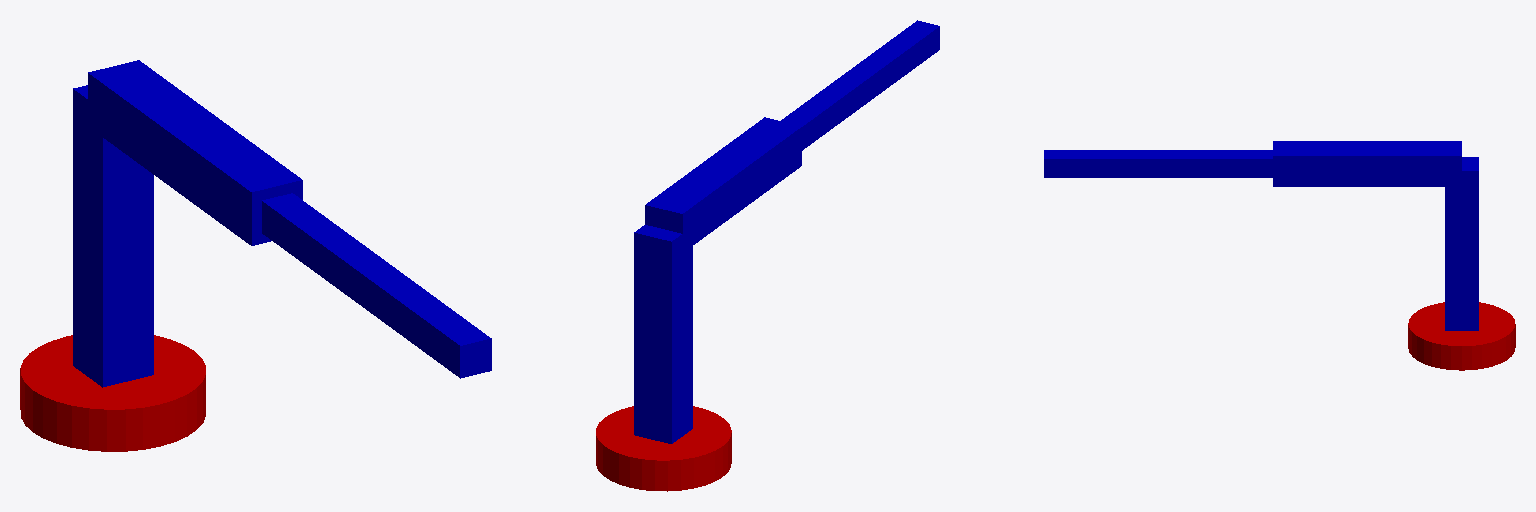
URDF robot description (divar3v30069):
<?xml version="1.0"?>
<robot  name="divar3v30069" >
 <material  name="blue" >
  <color  rgba="0 0 0.8 1.0" />
 </material>
 <material  name="red" >
  <color  rgba="0.8 0 0 1.0" />
 </material>
 <link  name="base_link" >
  <visual >
   <origin  rpy="0 0 0"  xyz="0 0 0" />
   <material  name="red" />
   <geometry >
    <cylinder  radius="0.1"  length="0.05" />
   </geometry>
  </visual>
 </link>
 <joint  name="joint1"  type="revolute" >
  <parent  link="base_link" />
  <child  link="link1" />
  <origin  rpy="0 0 0"  xyz="0 0 0" />
  <axis  xyz="0 0 1" />
 </joint>
 <link  name="link1" >
  <inertial >
   <origin  rpy="0 0 0"  xyz="0 0 0.17671274134805157" />
   <mass  value="2.0370864505776547" />
   <inertia  ixx="0.02189325472744721"  iyz="0.0"  iyy="0.0013779100715798562"  ixz="0.0"  izz="0.02189325472744721"  ixy="0.0" />
  </inertial>
  <visual >
   <origin  rpy="0 0 0"  xyz="0 0 0.17671274134805157" />
   <material  name="blue" />
   <geometry >
    <box  size="0.06370614597450026 0.06370614597450026 0.35342548269610313" />
   </geometry>
  </visual>
  <collision >
   <origin  rpy="0 0 0"  xyz="0 0 0.17671274134805157" />
   <geometry >
    <box  size="0.06370614597450026 0.06370614597450026 0.35342548269610313" />
   </geometry>
  </collision>
 </link>
 <joint  name="joint2"  type="revolute" >
  <parent  link="link1" />
  <child  link="link2" />
  <origin  rpy="1.5707 0 0"  xyz="0 0 0.35342548269610313" />
  <axis  xyz="1 0 0" />
 </joint>
 <link  name="link2" >
  <inertial >
   <origin  rpy="0 0 0"  xyz="0 0 0.06787938097134562" />
   <mass  value="0.7824912125491821" />
   <inertia  ixx="0.0014664481633078744"  iyz="0.0"  iyy="0.0005292865810326838"  ixz="0.0"  izz="0.0014664481633078744"  ixy="0.0" />
  </inertial>
  <visual >
   <origin  rpy="0 0 0"  xyz="0 0 0.06787938097134562" />
   <material  name="blue" />
   <geometry >
    <box  size="0.06370614597450026 0.06370614597450026 0.13575876194269124" />
   </geometry>
  </visual>
  <collision >
   <origin  rpy="0 0 0"  xyz="0 0 0.06787938097134562" />
   <geometry >
    <box  size="0.06370614597450026 0.06370614597450026 0.13575876194269124" />
   </geometry>
  </collision>
 </link>
 <joint  name="joint3"  type="revolute" >
  <parent  link="link2" />
  <child  link="link3" />
  <origin  rpy="0 0 0"  xyz="0 0 0.13575876194269124" />
  <axis  xyz="0 0 1" />
 </joint>
 <link  name="link3" >
  <inertial >
   <origin  rpy="0 0 0"  xyz="0 0 0.10797393760726996" />
   <mass  value="1.2446880945730512" />
   <inertia  ixx="0.0052579730349809305"  iyz="0.0"  iyy="0.0008419221781193467"  ixz="0.0"  izz="0.0052579730349809305"  ixy="0.0" />
  </inertial>
  <visual >
   <origin  rpy="0 0 0"  xyz="0 0 0.10797393760726996" />
   <material  name="blue" />
   <geometry >
    <box  size="0.06370614597450026 0.06370614597450026 0.21594787521453992" />
   </geometry>
  </visual>
  <collision >
   <origin  rpy="0 0 0"  xyz="0 0 0.10797393760726996" />
   <geometry >
    <box  size="0.06370614597450026 0.06370614597450026 0.21594787521453992" />
   </geometry>
  </collision>
 </link>
 <joint  name="joint4"  type="revolute" >
  <parent  link="link3" />
  <child  link="link4" />
  <origin  rpy="0 0 0"  xyz="0 0 0.21594787521453992" />
  <axis  xyz="0 1 0" />
 </joint>
 <link  name="link4" >
  <inertial >
   <origin  rpy="0 0 0"  xyz="0 0 0.12670001406152667" />
   <mass  value="0.5353271603084286" />
   <inertia  ixx="0.002930875929757283"  iyz="0.0"  iyy="0.00013271857557021943"  ixz="0.0"  izz="0.002930875929757283"  ixy="0.0" />
  </inertial>
  <visual >
   <origin  rpy="0 0 0"  xyz="0 0 0.12670001406152667" />
   <material  name="blue" />
   <geometry >
    <box  size="0.038568419480239556 0.038568419480239556 0.25340002812305334" />
   </geometry>
  </visual>
  <collision >
   <origin  rpy="0 0 0"  xyz="0 0 0.12670001406152667" />
   <geometry >
    <box  size="0.038568419480239556 0.038568419480239556 0.25340002812305334" />
   </geometry>
  </collision>
 </link>
 <joint  name="joint5"  type="revolute" >
  <parent  link="link4" />
  <child  link="link5" />
  <origin  rpy="0 0 0"  xyz="0 0 0.25340002812305334" />
  <axis  xyz="0 0 1" />
 </joint>
 <link  name="link5" >
  <inertial >
   <origin  rpy="0 0 0"  xyz="0 0 0.03167500351538166" />
   <mass  value="0.13383179007710713" />
   <inertia  ixx="6.134789447709261e-05"  iyz="0.0"  iyy="3.317964389255485e-05"  ixz="0.0"  izz="6.134789447709261e-05"  ixy="0.0" />
  </inertial>
  <visual >
   <origin  rpy="0 0 0"  xyz="0 0 0.03167500351538166" />
   <material  name="blue" />
   <geometry >
    <box  size="0.038568419480239556 0.038568419480239556 0.06335000703076332" />
   </geometry>
  </visual>
  <collision >
   <origin  rpy="0 0 0"  xyz="0 0 0.03167500351538166" />
   <geometry >
    <box  size="0.038568419480239556 0.038568419480239556 0.06335000703076332" />
   </geometry>
  </collision>
 </link>
 <joint  name="joint6"  type="revolute" >
  <parent  link="link5" />
  <child  link="link6" />
  <origin  rpy="0 0 0"  xyz="0 0 0.06335000703076332" />
  <axis  xyz="0 1 0" />
 </joint>
 <link  name="link6" >
  <inertial >
   <origin  rpy="0 0 0"  xyz="0 0 0.005" />
   <mass  value="0.02112577351603406" />
   <inertia  ixx="7.320913292362193e-06"  iyz="0.0"  iyy="1.428973035945715e-05"  ixz="0.0"  izz="7.320913292362193e-06"  ixy="0.0" />
  </inertial>
  <visual >
   <origin  rpy="0 0 0"  xyz="0 0 0.005" />
   <material  name="blue" />
   <geometry >
    <box  size="0.038568419480239556 0.038568419480239556 0.01" />
   </geometry>
  </visual>
  <collision >
   <origin  rpy="0 0 0"  xyz="0 0 0.005" />
   <geometry >
    <box  size="0.038568419480239556 0.038568419480239556 0.01" />
   </geometry>
  </collision>
 </link>
 <joint  name="joint7"  type="revolute" >
  <parent  link="link6" />
  <child  link="link7" />
  <origin  rpy="0 0 0"  xyz="0 0 0.01" />
  <axis  xyz="1 0 0" />
 </joint>
 <link  name="link7" >
  <inertial >
   <origin  rpy="0 0 0"  xyz="0 0 0.05" />
   <mass  value="0.2112577351603406" />
   <inertia  ixx="0.00020223567396762188"  iyz="0.0"  iyy="5.237512266800937e-05"  ixz="0.0"  izz="0.00020223567396762188"  ixy="0.0" />
  </inertial>
  <visual >
   <origin  rpy="0 0 0"  xyz="0 0 0.05" />
   <material  name="blue" />
   <geometry >
    <box  size="0.038568419480239556 0.038568419480239556 0.1" />
   </geometry>
  </visual>
  <collision >
   <origin  rpy="0 0 0"  xyz="0 0 0.05" />
   <geometry >
    <box  size="0.038568419480239556 0.038568419480239556 0.1" />
   </geometry>
  </collision>
 </link>
 <joint  name="eef_joint"  type="fixed" >
  <parent  link="link7" />
  <child  link="eef" />
  <origin  rpy="0 0 0"  xyz="0 0 0.1" />
 </joint>
 <link  name="eef" />
</robot>

--- Facts derived from the render (not from the file) ---
Views: 3 orthographic renders of the robot side by side, from view 1: azimuth 30°, elevation 25°; view 2: azimuth 150°, elevation 25°; view 3: azimuth 270°, elevation 25°.
Model divar3v30069 with 9 links and 8 joints (7 revolute, 1 fixed), rooted at base_link, posed every joint at zero.
Links seen in each view (by area): view 1: link1, base_link, link3, link4, link2, link7, link5; view 2: link1, base_link, link3, link2, link4, link7, link5; view 3: link1, base_link, link3, link4, link2, link7, link5.
Link boxes in pixels (x1,y1,x2,y2): link1: (73, 85, 153, 387); base_link: (20, 335, 205, 451); link3: (151, 106, 302, 245); link4: (262, 193, 409, 318); link2: (88, 60, 201, 171); link7: (414, 304, 491, 378); link5: (380, 279, 439, 340); link1: (634, 225, 692, 443); base_link: (596, 406, 731, 491); link3: (692, 117, 801, 218); link2: (645, 171, 728, 251); link4: (781, 64, 880, 150); link7: (884, 20, 939, 74); link5: (859, 48, 902, 92); link1: (1445, 157, 1478, 330); base_link: (1408, 302, 1515, 370); link3: (1273, 141, 1388, 186); link4: (1137, 150, 1272, 177); link2: (1389, 141, 1461, 186); link7: (1044, 150, 1097, 177); link5: (1103, 150, 1136, 177).
Size in the robot's own frame: 0.2 by 0.8785 by 0.4103 metres.
Geometry: primitives only (box / cylinder / sphere), no mesh files.